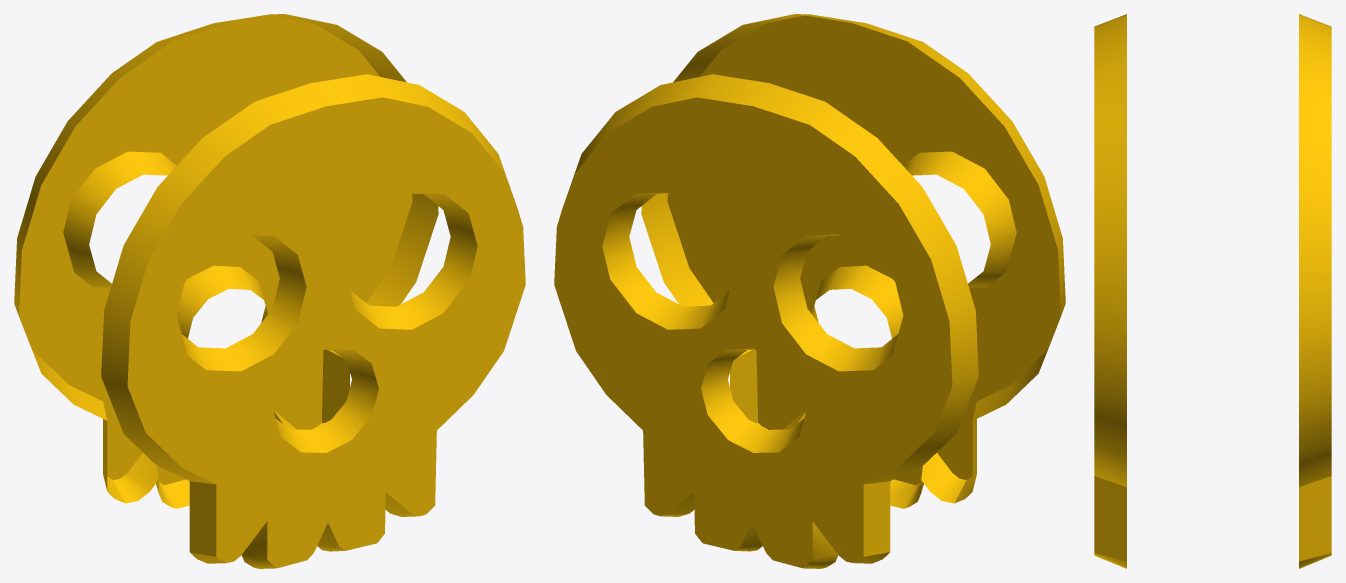
The model's file is Skull.fbx.
The picture shows the model from 3 angles, left to right: view 1: azimuth 30°, elevation 25°; view 2: azimuth 150°, elevation 25°; view 3: azimuth 270°, elevation 25°; orthographic projection. The views are drawn at different scales.
Visible parts, largest first — view 1: Skull; view 2: Skull; view 3: Skull.
Part boxes in pixels (left/top/right/bottom): Skull: left=14, top=14, right=525, bottom=568; Skull: left=554, top=14, right=1065, bottom=568; Skull: left=1094, top=14, right=1331, bottom=568.
Bounding box in the file's own units: 97.03 × 105 × 45.39.
